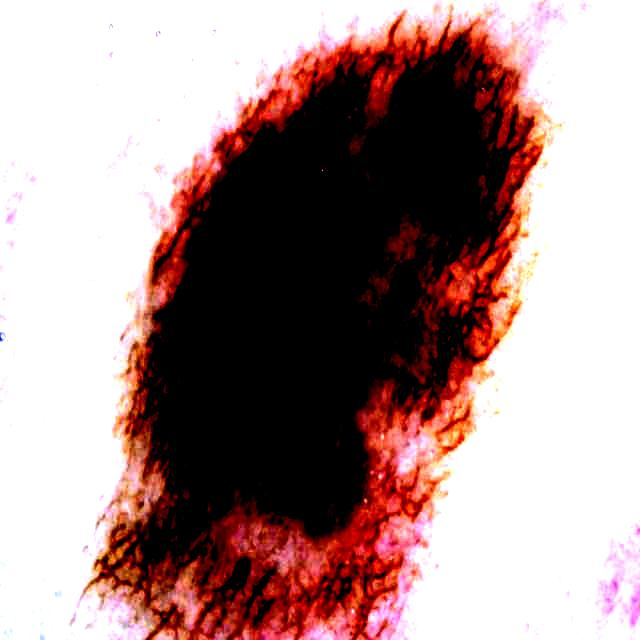NV: (97, 21, 542, 638)
